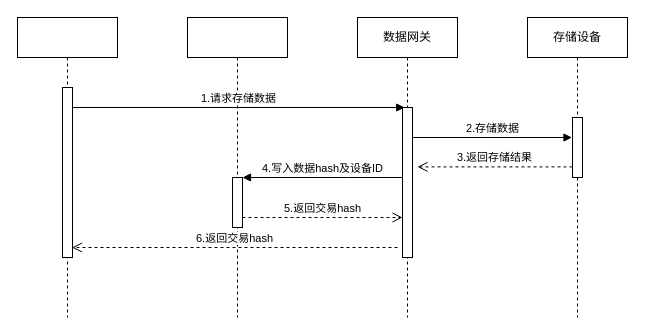
This 645x335 diagram has some shape labels left out. Each missing label, with the box of its shape:
智能合约: (186, 16, 288, 318)
物联网设备: (16, 16, 118, 318)
